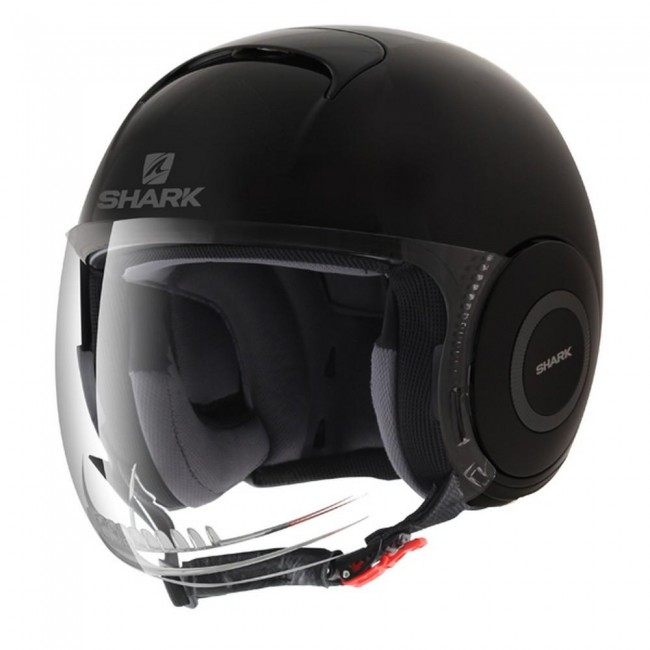with_helmet: (49, 24, 609, 581)
